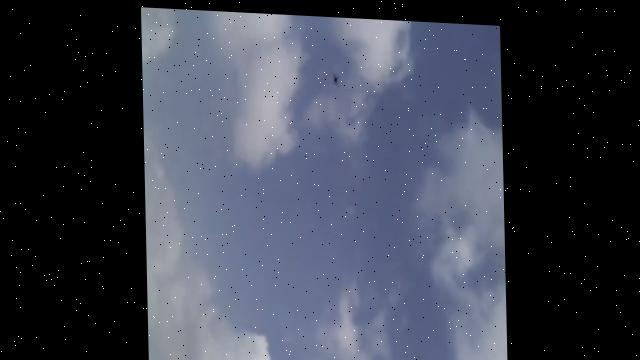drone: (329, 67, 345, 84)
